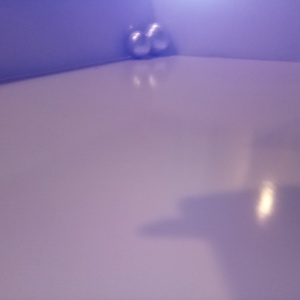alive_ball: (153, 47, 220, 120)
dead_ball: (225, 42, 292, 111)
